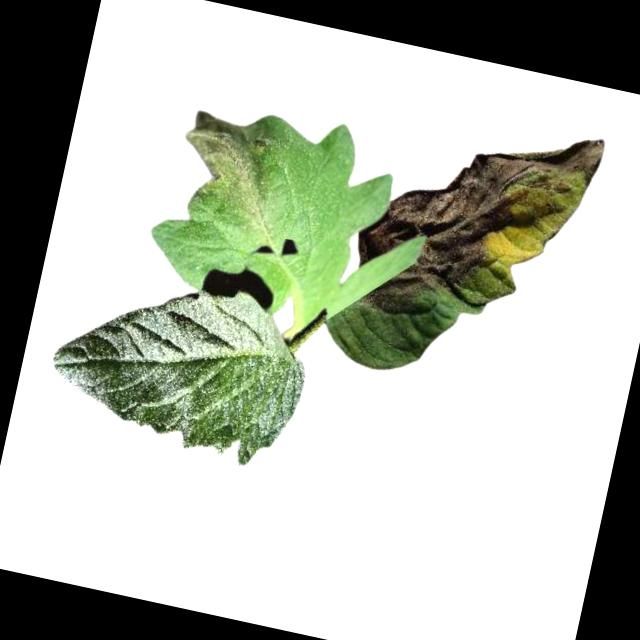Late_blight: (342, 91, 607, 351), (170, 103, 294, 222)
